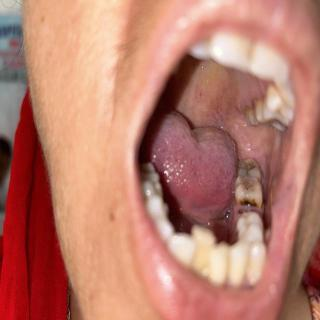cavities: (237, 156, 258, 179), (236, 174, 257, 192)
maligned: (192, 221, 218, 279)
